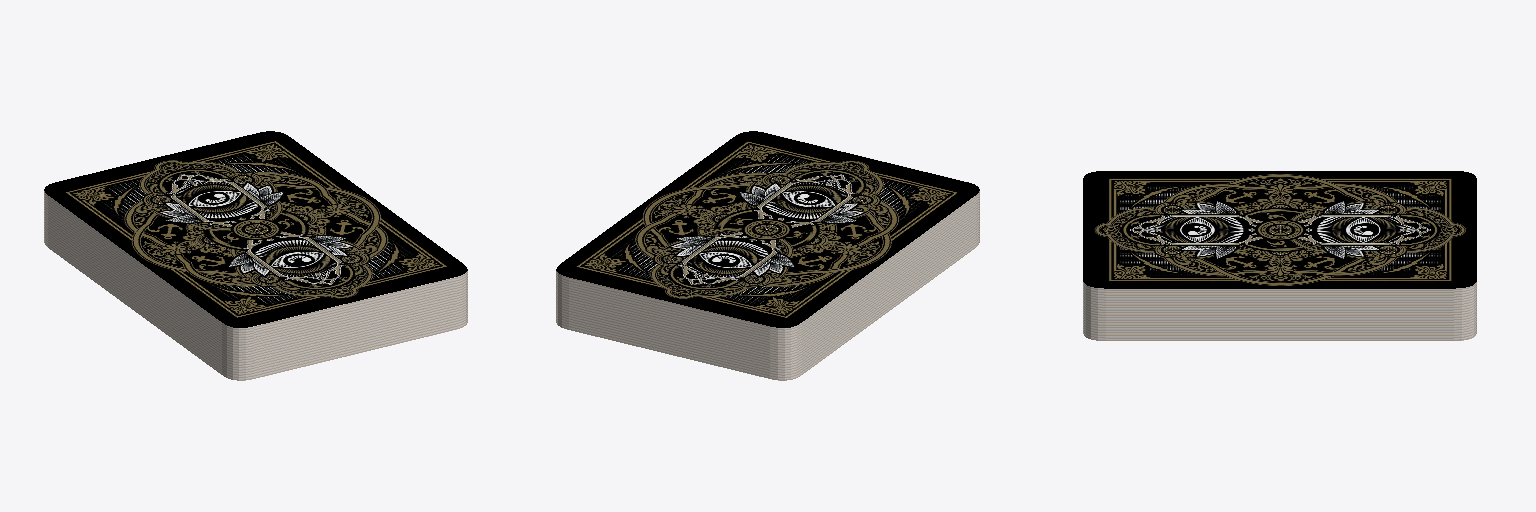
3 views of the same model, side by side, from view 1: azimuth 30°, elevation 25°; view 2: azimuth 150°, elevation 25°; view 3: azimuth 270°, elevation 25° (orthographic).
Visible parts, largest first — view 1: Box001; view 2: Box001; view 3: Box001.
Part boxes in pixels (left/top/right/bottom): Box001: left=44, top=131, right=467, bottom=380; Box001: left=556, top=131, right=979, bottom=380; Box001: left=1083, top=171, right=1476, bottom=340.
Bounding box in the file's own units: 0.12 × 0.025 × 0.17.
Materials: 1 (1 with a texture image).